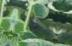Tomato mold leaf: (26, 0, 66, 16), (14, 33, 55, 46)
